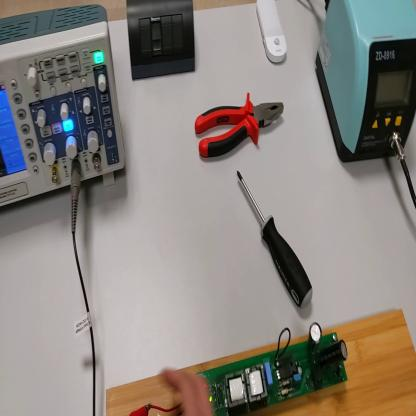hand: (162, 366, 214, 412)
high voltage board: (153, 325, 350, 416)
oscilloscope: (2, 2, 123, 224)
pliers: (196, 94, 289, 169)
screwdriver-: (237, 173, 314, 309)
welder station: (315, 4, 415, 167)
working area: (107, 310, 415, 416)
